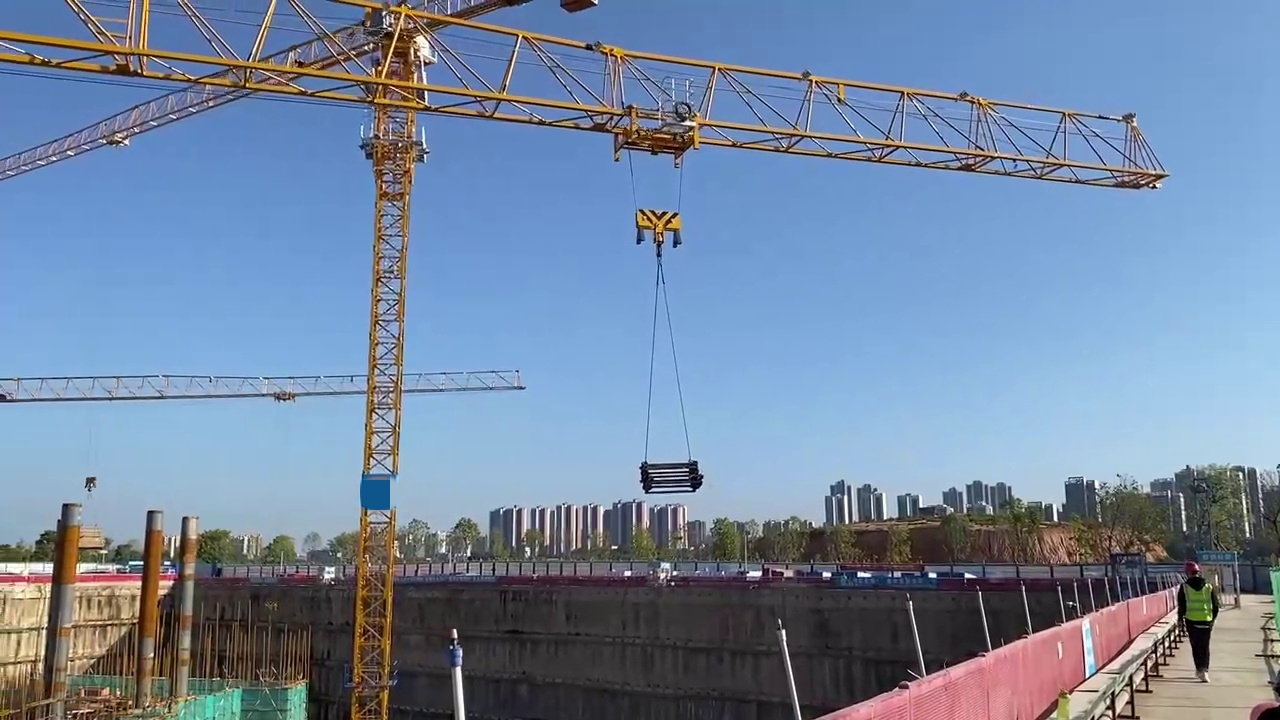fence: (802, 608, 1087, 720), (1084, 590, 1174, 667)
helmet: (1185, 562, 1200, 573)
hook: (633, 207, 684, 243)
person: (1173, 566, 1218, 687)
vest: (1181, 581, 1212, 623)
